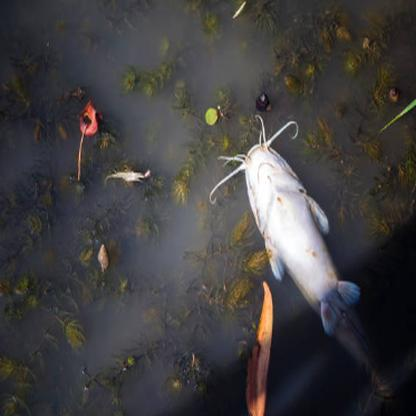deceased fish: (210, 119, 389, 384)
